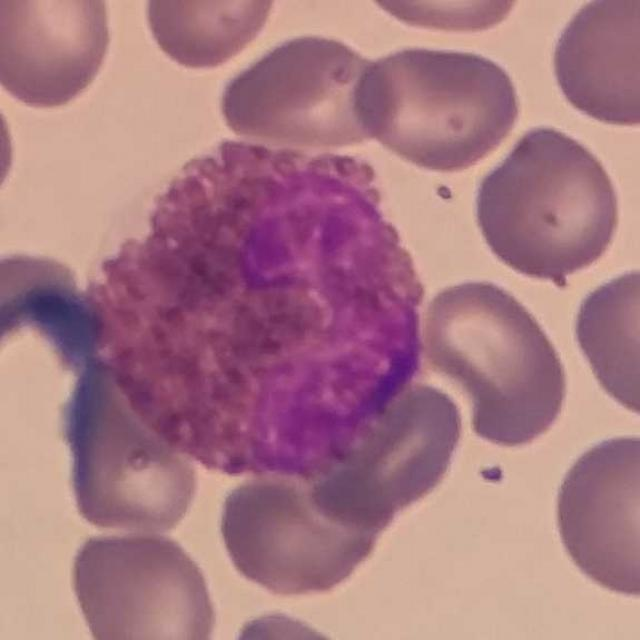Eosinophil: (60, 116, 448, 495)
Platelets: (474, 458, 510, 489)
RBC: (279, 370, 471, 530), (55, 346, 207, 539), (211, 445, 394, 602), (413, 272, 574, 449), (468, 120, 628, 283), (348, 38, 526, 175), (214, 28, 396, 152), (63, 523, 224, 640), (546, 426, 640, 604), (0, 0, 119, 112), (545, 0, 639, 131), (567, 262, 640, 425), (0, 243, 85, 374), (138, 0, 286, 72), (354, 0, 531, 39), (215, 604, 362, 640), (0, 61, 22, 222)
